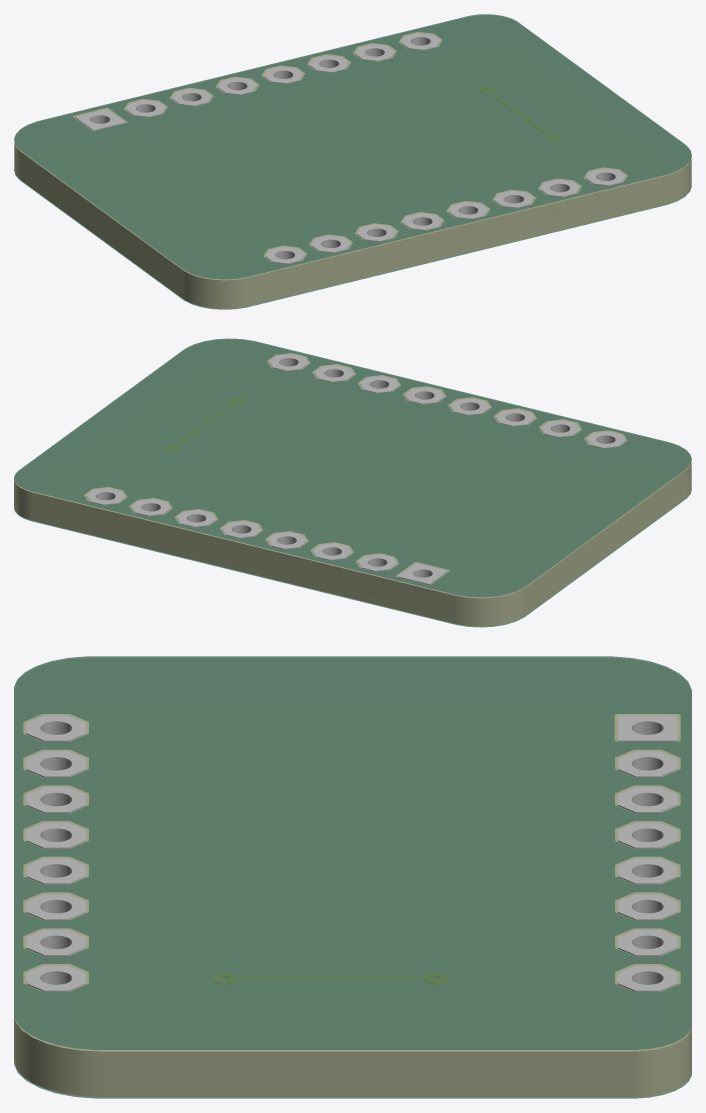
File: stm8-minibadges.glb
The picture shows the model from 3 angles, top to bottom: view 1: azimuth 30°, elevation 25°; view 2: azimuth 150°, elevation 25°; view 3: azimuth 270°, elevation 25°; orthographic projection. The views are drawn at different scales.
Visible parts, largest first — view 1: =>[0:1:1:8], =>[0:1:1:6], =>[0:1:1:2]; view 2: =>[0:1:1:8], =>[0:1:1:6], =>[0:1:1:2]; view 3: =>[0:1:1:8], =>[0:1:1:6], =>[0:1:1:2].
Boxes of the visible parts, <box> form: =>[0:1:1:8]: <box>14,15,691,308</box>; =>[0:1:1:6]: <box>14,14,691,309</box>; =>[0:1:1:2]: <box>75,33,625,263</box>; =>[0:1:1:8]: <box>14,340,691,626</box>; =>[0:1:1:6]: <box>14,338,691,627</box>; =>[0:1:1:2]: <box>86,354,625,584</box>; =>[0:1:1:8]: <box>14,658,691,1096</box>; =>[0:1:1:6]: <box>14,656,691,1098</box>; =>[0:1:1:2]: <box>26,715,677,991</box>.
Bounding box in the file's own units: 0.028 × 0.00163 × 0.0204.
4 materials, 4 textured.
